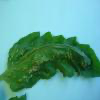Tomato mold leaf: (0, 24, 99, 94)
